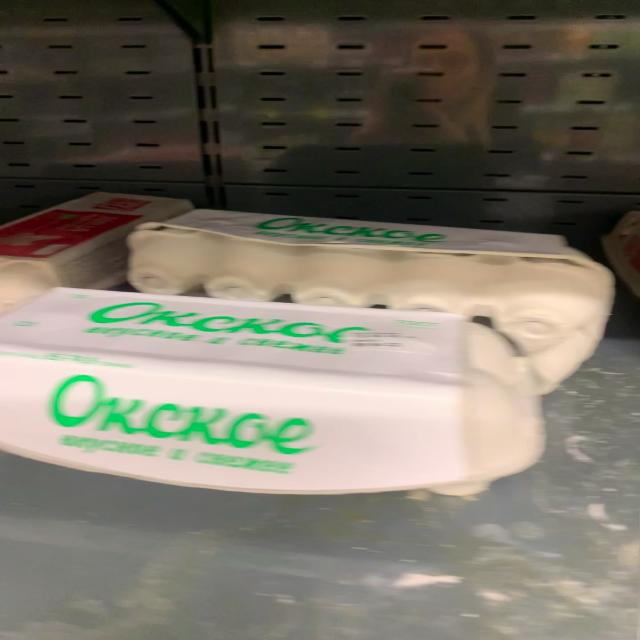egg box: (0, 281, 539, 500)
